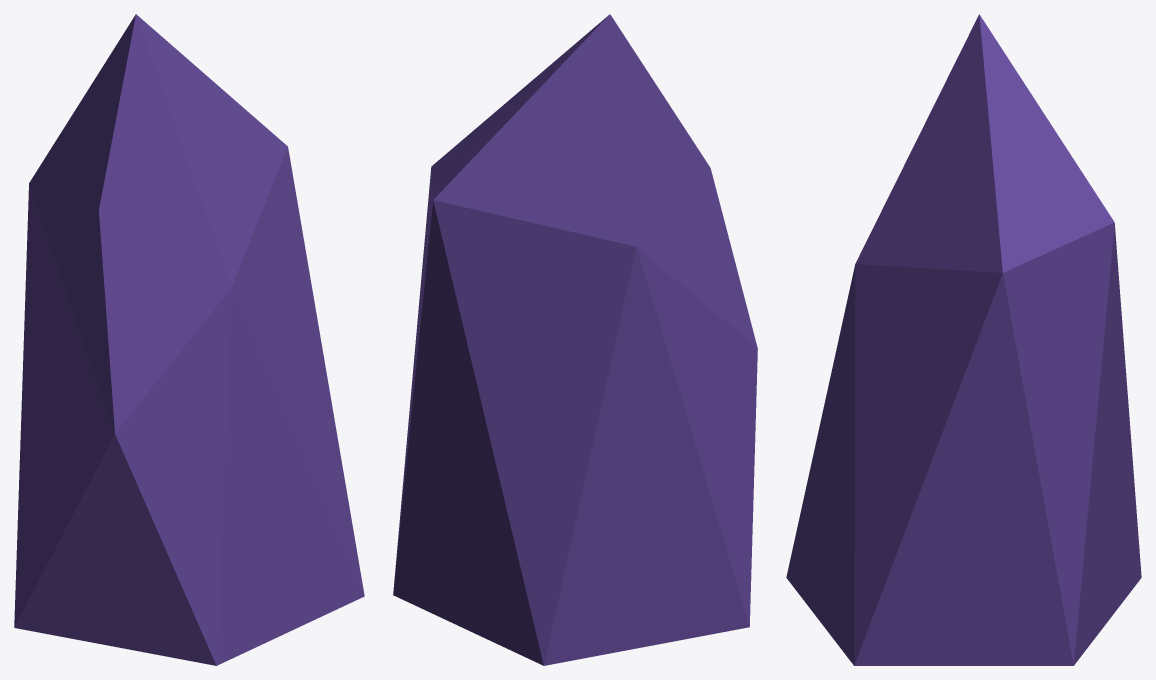
Rendered from rock1.fbx.
3 renders of one model, left to right at view 1: azimuth 30°, elevation 25°; view 2: azimuth 150°, elevation 25°; view 3: azimuth 270°, elevation 25°, orthographic. The views are drawn at different scales.
Visible parts, largest first — view 1: Icosphere; view 2: Icosphere; view 3: Icosphere.
Boxes of the visible parts, x1,y1,x2,y2 form: Icosphere: (14,14,364,665); Icosphere: (393,14,757,665); Icosphere: (786,14,1141,665).
Bounding box in the file's own units: 162 × 303 × 170.
